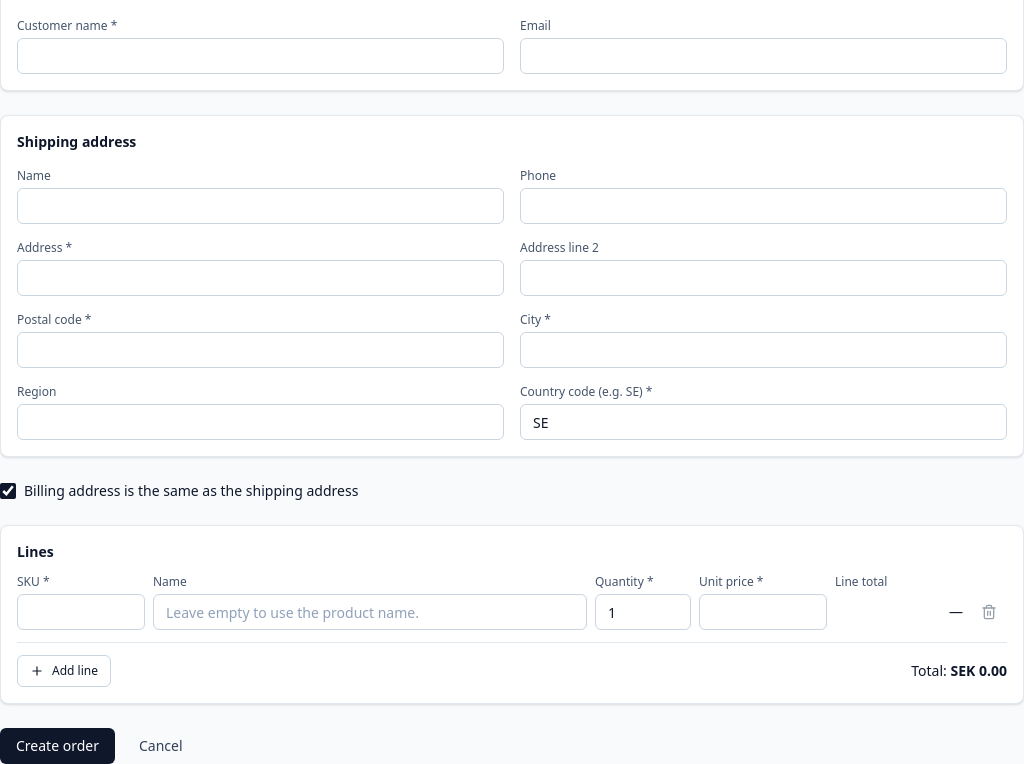
creating an order › adds and removes lines and totals them
(page scrolled)
In the field named "Unit price (required) *": (763, 612) [699,594,827,630], type "10"
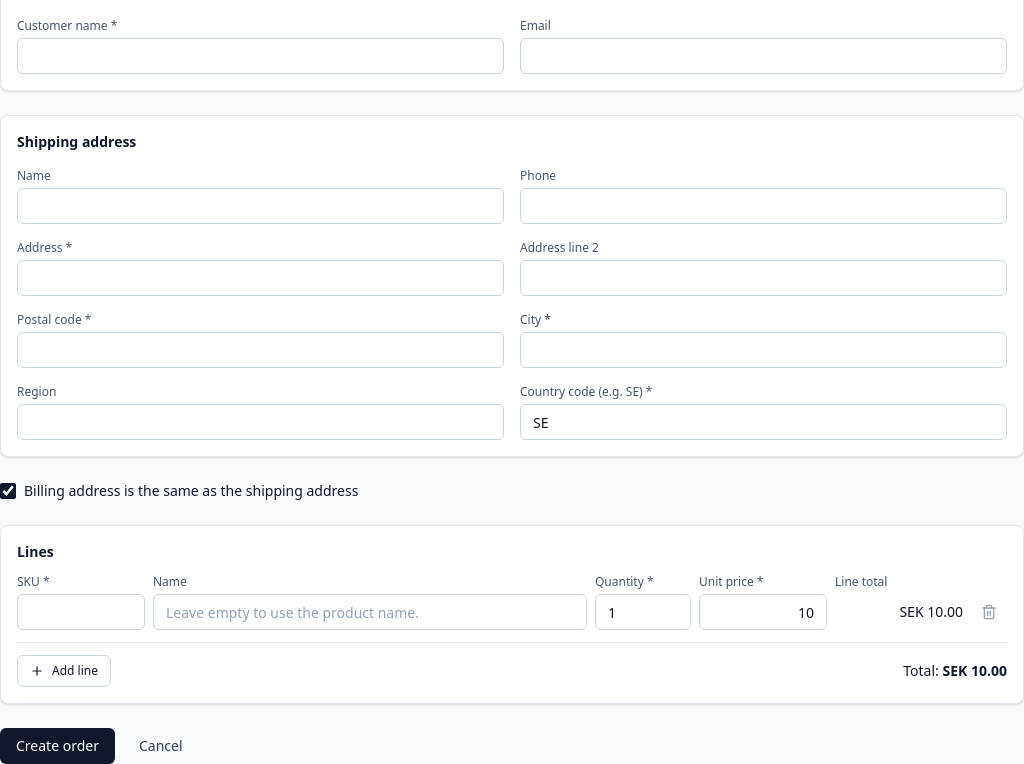
Click the button "Add line": (64, 671) [17,655,111,687]
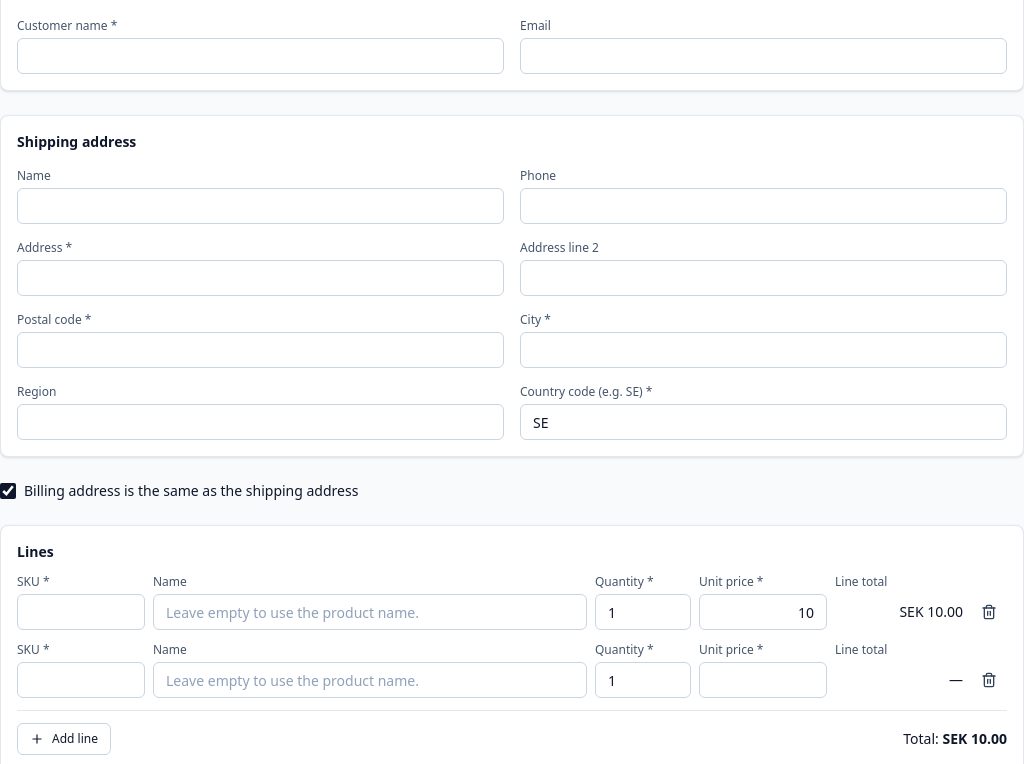
Replace the text in the number field named "Quantity (required) *" with "2": (643, 680) [595,662,691,698]
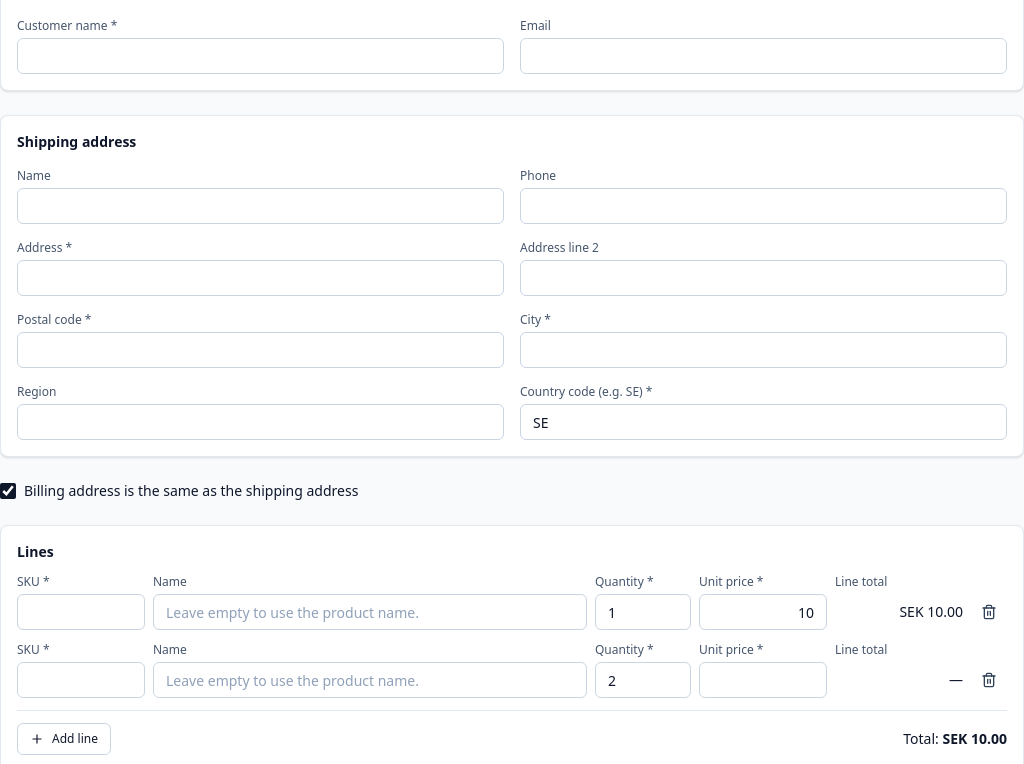
In the field named "Unit price (required) *": (763, 680) [699,662,827,698], type "2.50"
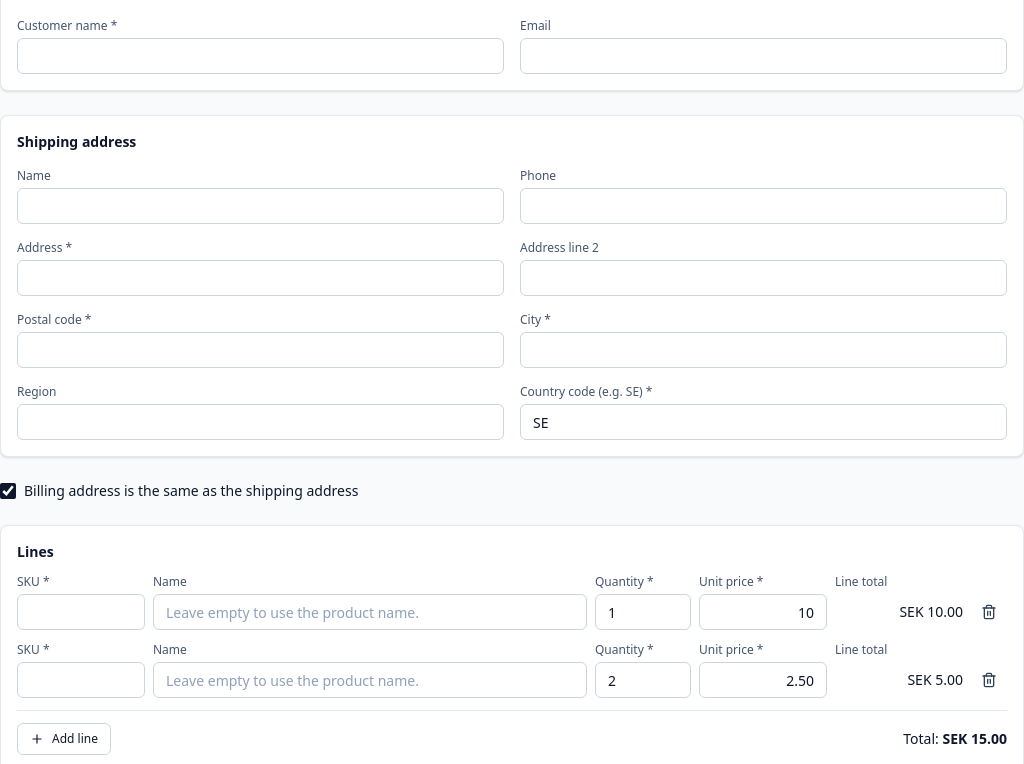
Expected: the text "Total:" reads "Total: SEK 15.00", [903,729,1007,749]
Click the button named "Remove line 2": (989, 680) [971,662,1007,698]
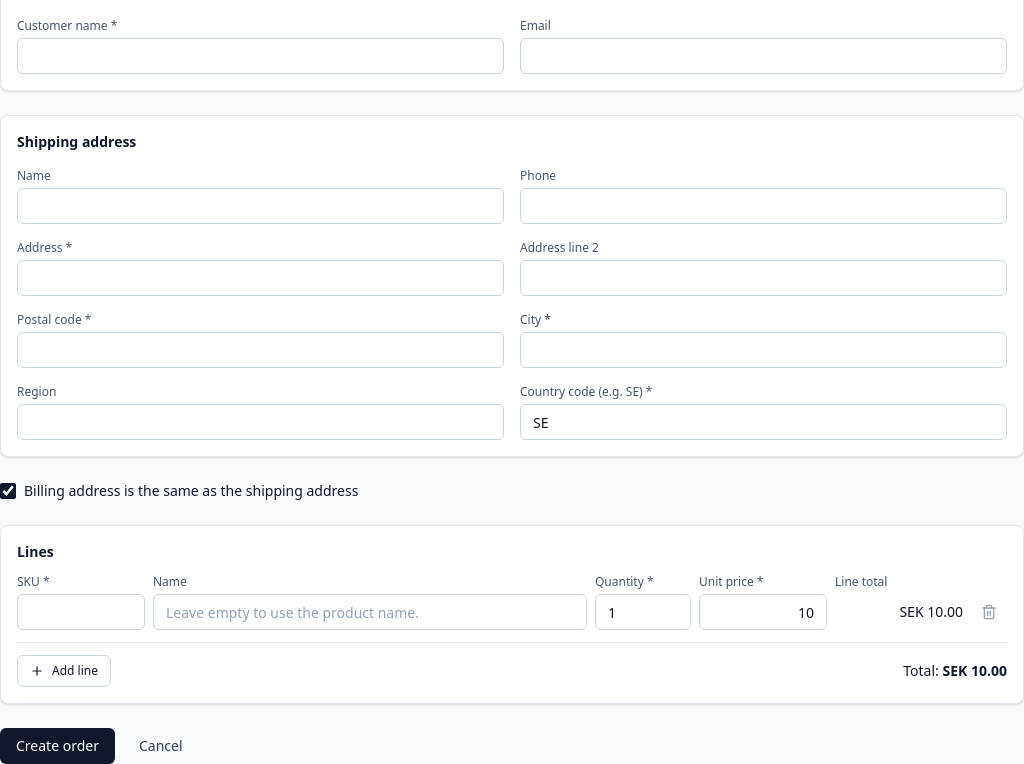
Expected: the text "Total:" reads "Total: SEK 10.00", [903,661,1007,681]
Expected: the button named "Remove line 1" is disabled, [971,594,1007,630]
